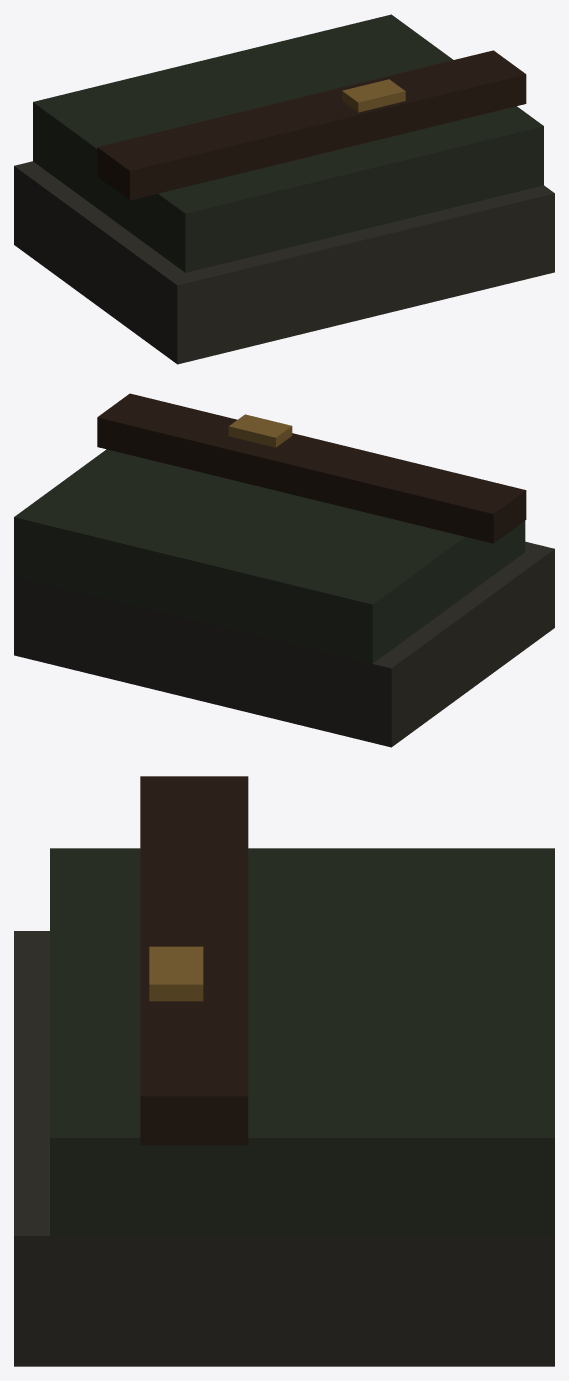
Rendered from clothes.glb.
The picture shows the model from 3 angles, top to bottom: view 1: azimuth 30°, elevation 25°; view 2: azimuth 150°, elevation 25°; view 3: azimuth 270°, elevation 25°; orthographic projection. The views are drawn at different scales.
Visible parts, largest first — view 1: Clothes; view 2: Clothes; view 3: Clothes.
Boxes of the visible parts, left/top/right/bottom form: Clothes: left=14, top=14, right=554, bottom=364; Clothes: left=14, top=393, right=554, bottom=747; Clothes: left=14, top=776, right=554, bottom=1366.
Size of the model in its own units: 0.42 by 0.18 by 0.3.
